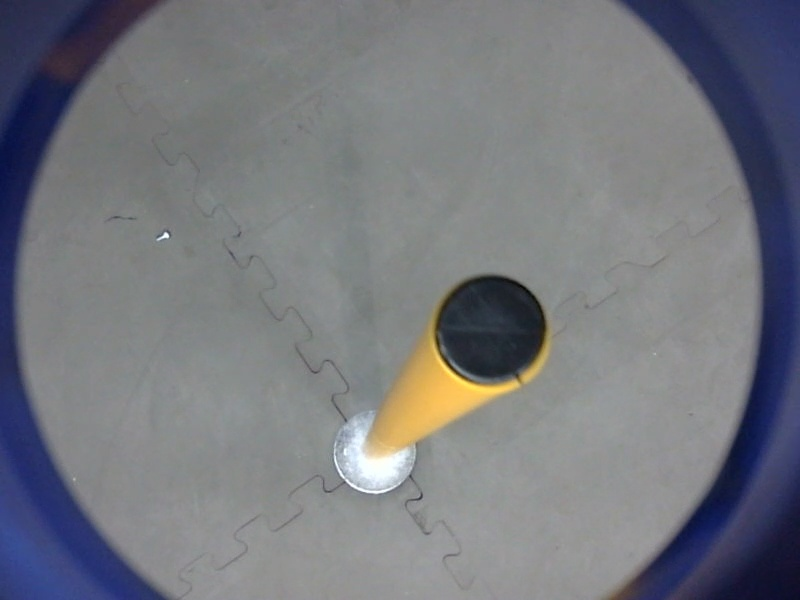tip: (429, 267, 556, 397)
